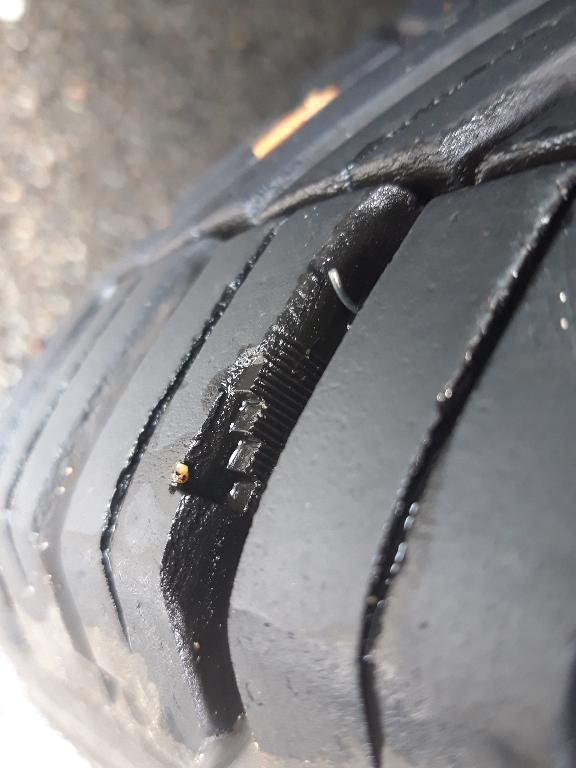temoin:80: (165, 329, 332, 526)
